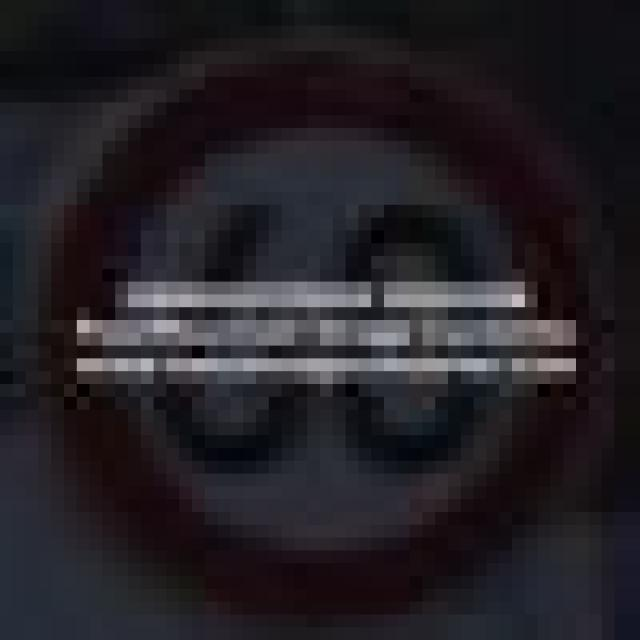SPEED_LIMIT_60: (39, 51, 564, 576)
